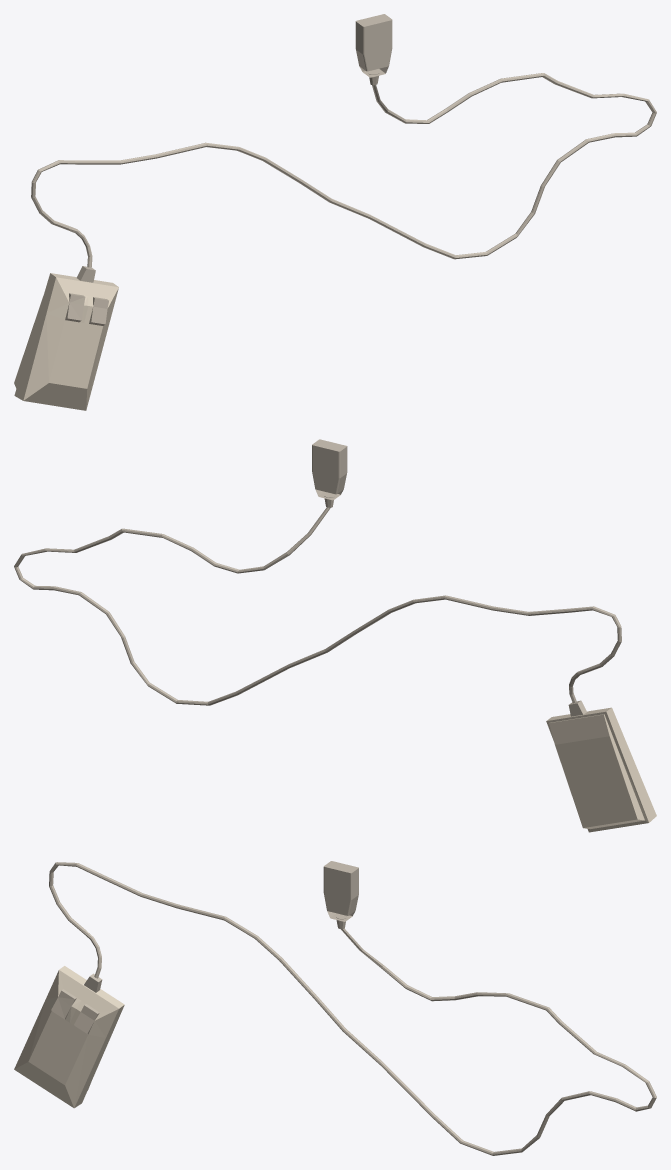
File: MOUSE.glb
The picture shows the model from 3 angles, top to bottom: view 1: azimuth 30°, elevation 25°; view 2: azimuth 150°, elevation 25°; view 3: azimuth 330°, elevation 25°; orthographic projection. The views are drawn at different scales.
Parts seen in each view (by area): view 1: _0; view 2: _0; view 3: _0.
Boxes of the visible parts, x1,y1,x2,y2 form: _0: (14,14,656,410); _0: (14,439,656,832); _0: (14,861,656,1155).
Size of the model in its own units: 7.71 by 3.67 by 0.5916.
